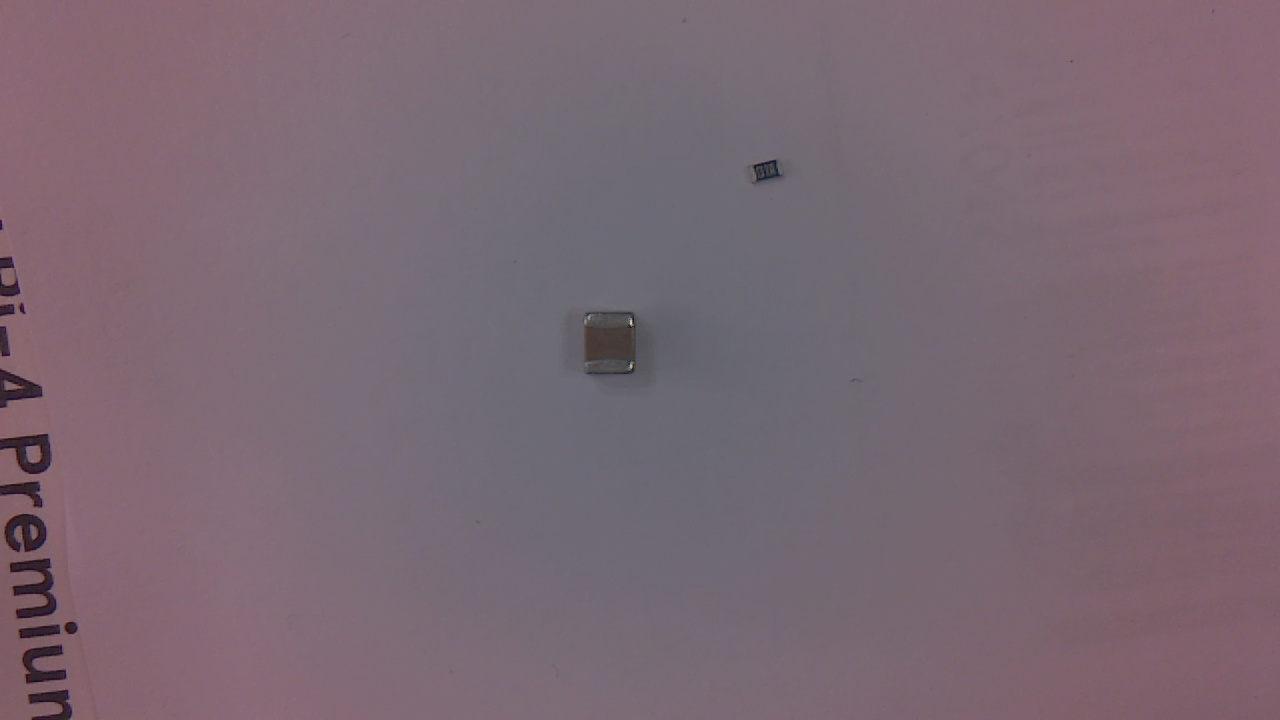Condensator: (584, 314, 643, 381)
Resistor: (751, 161, 790, 190)
